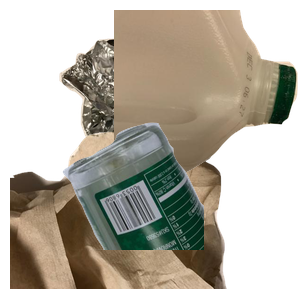glass: (60, 120, 300, 300)
metal: (57, 36, 241, 216)
plastic: (114, 10, 300, 179)
trash: (10, 120, 229, 300)
